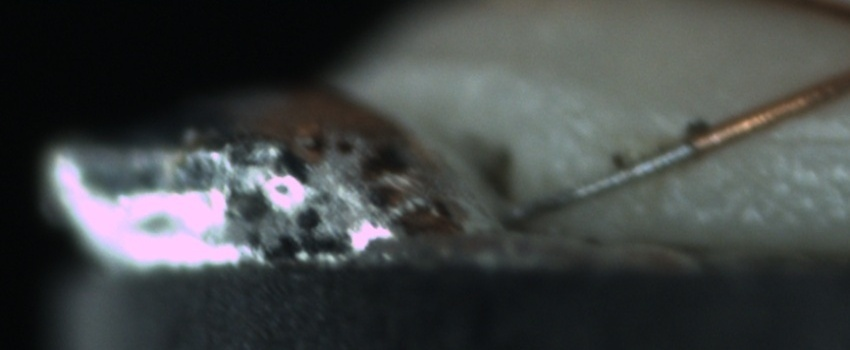DL: (753, 106, 849, 170)
TS: (505, 140, 698, 226)
